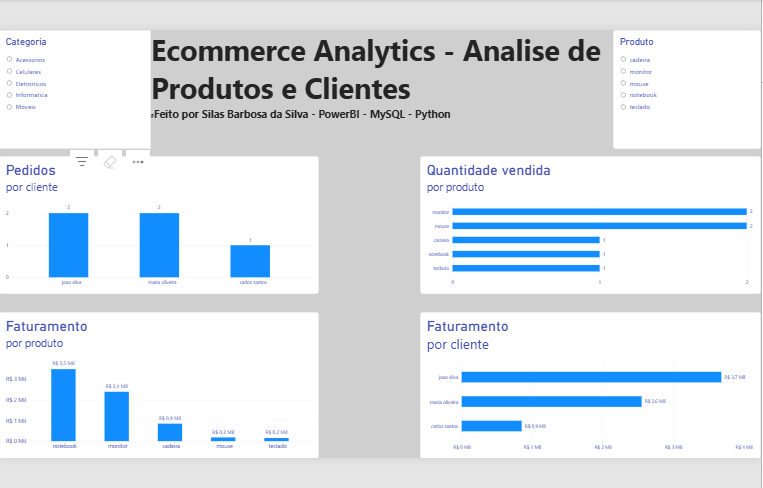

Layout of this report page (visuals, bound fields, positions):
{"tool":"powerbi","page":{"name":"Analise de Produtos e Clientes","canvas":[1920,1080],"ordinal":1},"visuals":[{"type":"columnChart","title":"Faturamento","fields":{"Y":["itens_pedido.faturamento"],"Category":["produtos.produto"]},"box":[0,710.6,806.3,370.4],"z":0},{"type":"barChart","title":"Faturamento","fields":{"Y":["itens_pedido.faturamento"],"Category":["clientes.cliente"]},"box":[1060.8,710.6,859.2,370.4],"z":1000},{"type":"columnChart","fields":{"Y":["CountNonNull(itens_pedido.id_pedido)"],"Category":["clientes.cliente"]},"box":[0,317.5,806.3,347.7],"z":2000},{"type":"barChart","fields":{"Y":["Sum(itens_pedido.quantidade)"],"Category":["produtos.produto"]},"box":[1060.8,317.5,859.2,347.7],"z":3000},{"type":"listSlicer","title":"Categoria","fields":{"Values":["categorias.categoria"]},"box":[0,0,383,299.8],"z":4000},{"type":"listSlicer","title":"Produto","fields":{"Values":["produtos.produto"]},"box":[1547.1,0,372.9,299.8],"z":5000},{"type":"textbox","box":[383,0,1164.1,299.8],"z":6000}]}

Visuals, with their boxes on the page's 1920x1080 design canvas (x1, y1, x2, y2). These are canvas units, not pixel positions in the 763x488 screenshot, which may show the page scaled, cropped or inside an application window:
"Faturamento" columnChart: left=0, top=711, right=806, bottom=1081
"Faturamento" barChart: left=1061, top=711, right=1920, bottom=1081
columnChart - CountNonNull(itens_pedido.id_pedido) x clientes.cliente: left=0, top=318, right=806, bottom=665
barChart - Sum(itens_pedido.quantidade) x produtos.produto: left=1061, top=318, right=1920, bottom=665
"Categoria" listSlicer: left=0, top=0, right=383, bottom=300
"Produto" listSlicer: left=1547, top=0, right=1920, bottom=300
textbox: left=383, top=0, right=1547, bottom=300
